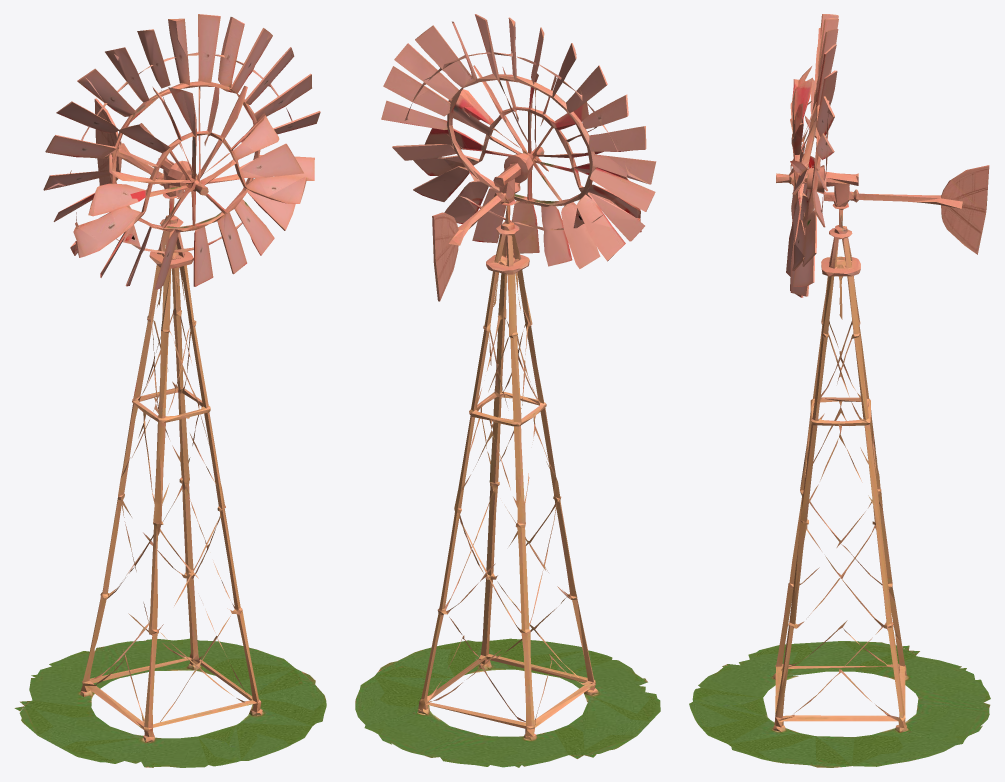
The model's file is windmill.glb.
3 renders of one model, left to right at view 1: azimuth 30°, elevation 25°; view 2: azimuth 150°, elevation 25°; view 3: azimuth 270°, elevation 25°, orthographic. The views are drawn at different scales.
Parts seen in each view (by area): view 1: output_unwrapped; view 2: output_unwrapped; view 3: output_unwrapped.
Part boxes in pixels (box(x1,y1,x2,y2)): output_unwrapped: box(14, 14, 326, 767); output_unwrapped: box(355, 14, 660, 767); output_unwrapped: box(689, 14, 990, 767).
Bounding box in the file's own units: 0.7867 × 1.9 × 0.769.
Materials: 1 (1 with a texture image).
